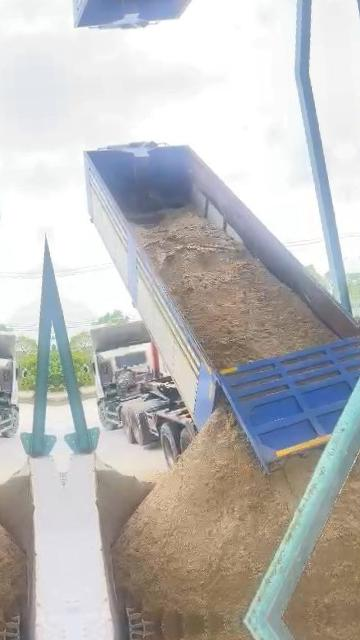sand: (113, 409, 320, 626), (136, 209, 336, 368), (287, 450, 360, 617), (98, 463, 164, 544)
